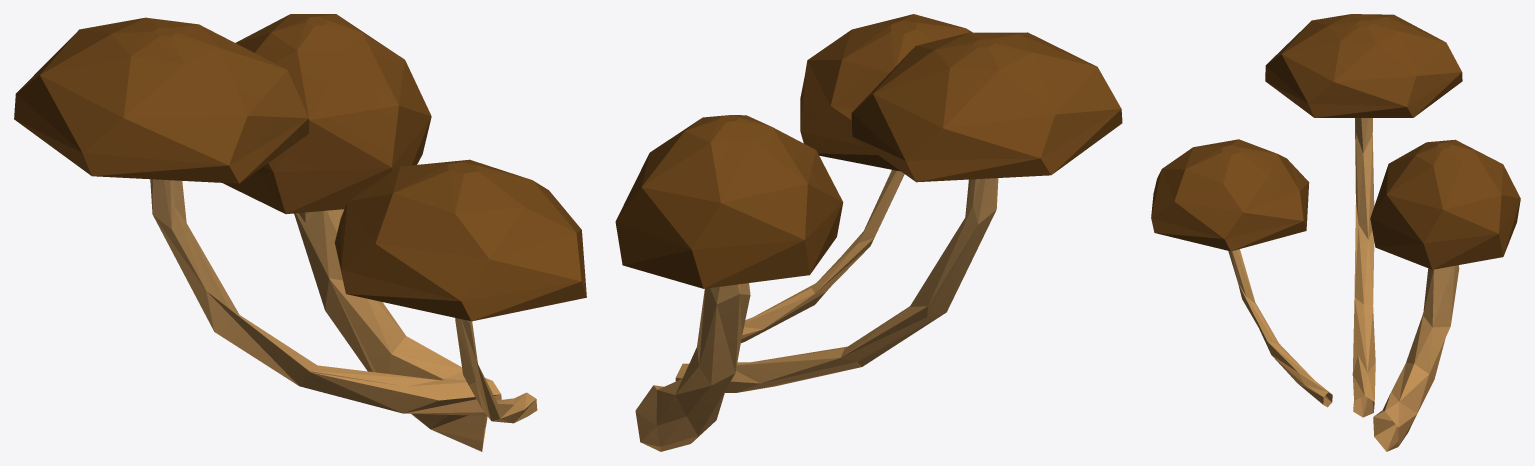
The model's file is mushroom_brown.glb.
3 views of the same model, side by side, from view 1: azimuth 30°, elevation 25°; view 2: azimuth 150°, elevation 25°; view 3: azimuth 270°, elevation 25° (orthographic). The views are drawn at different scales.
Parts seen in each view (by area): view 1: mushroom_brown; view 2: mushroom_brown; view 3: mushroom_brown.
Boxes of the visible parts, x1,y1,x2,y2 form: mushroom_brown: (14, 14, 586, 451); mushroom_brown: (615, 14, 1122, 451); mushroom_brown: (1151, 14, 1520, 451).
Size of the model in its own units: 0.21 by 0.22 by 0.2266.
Materials: 1 (1 with a texture image).
